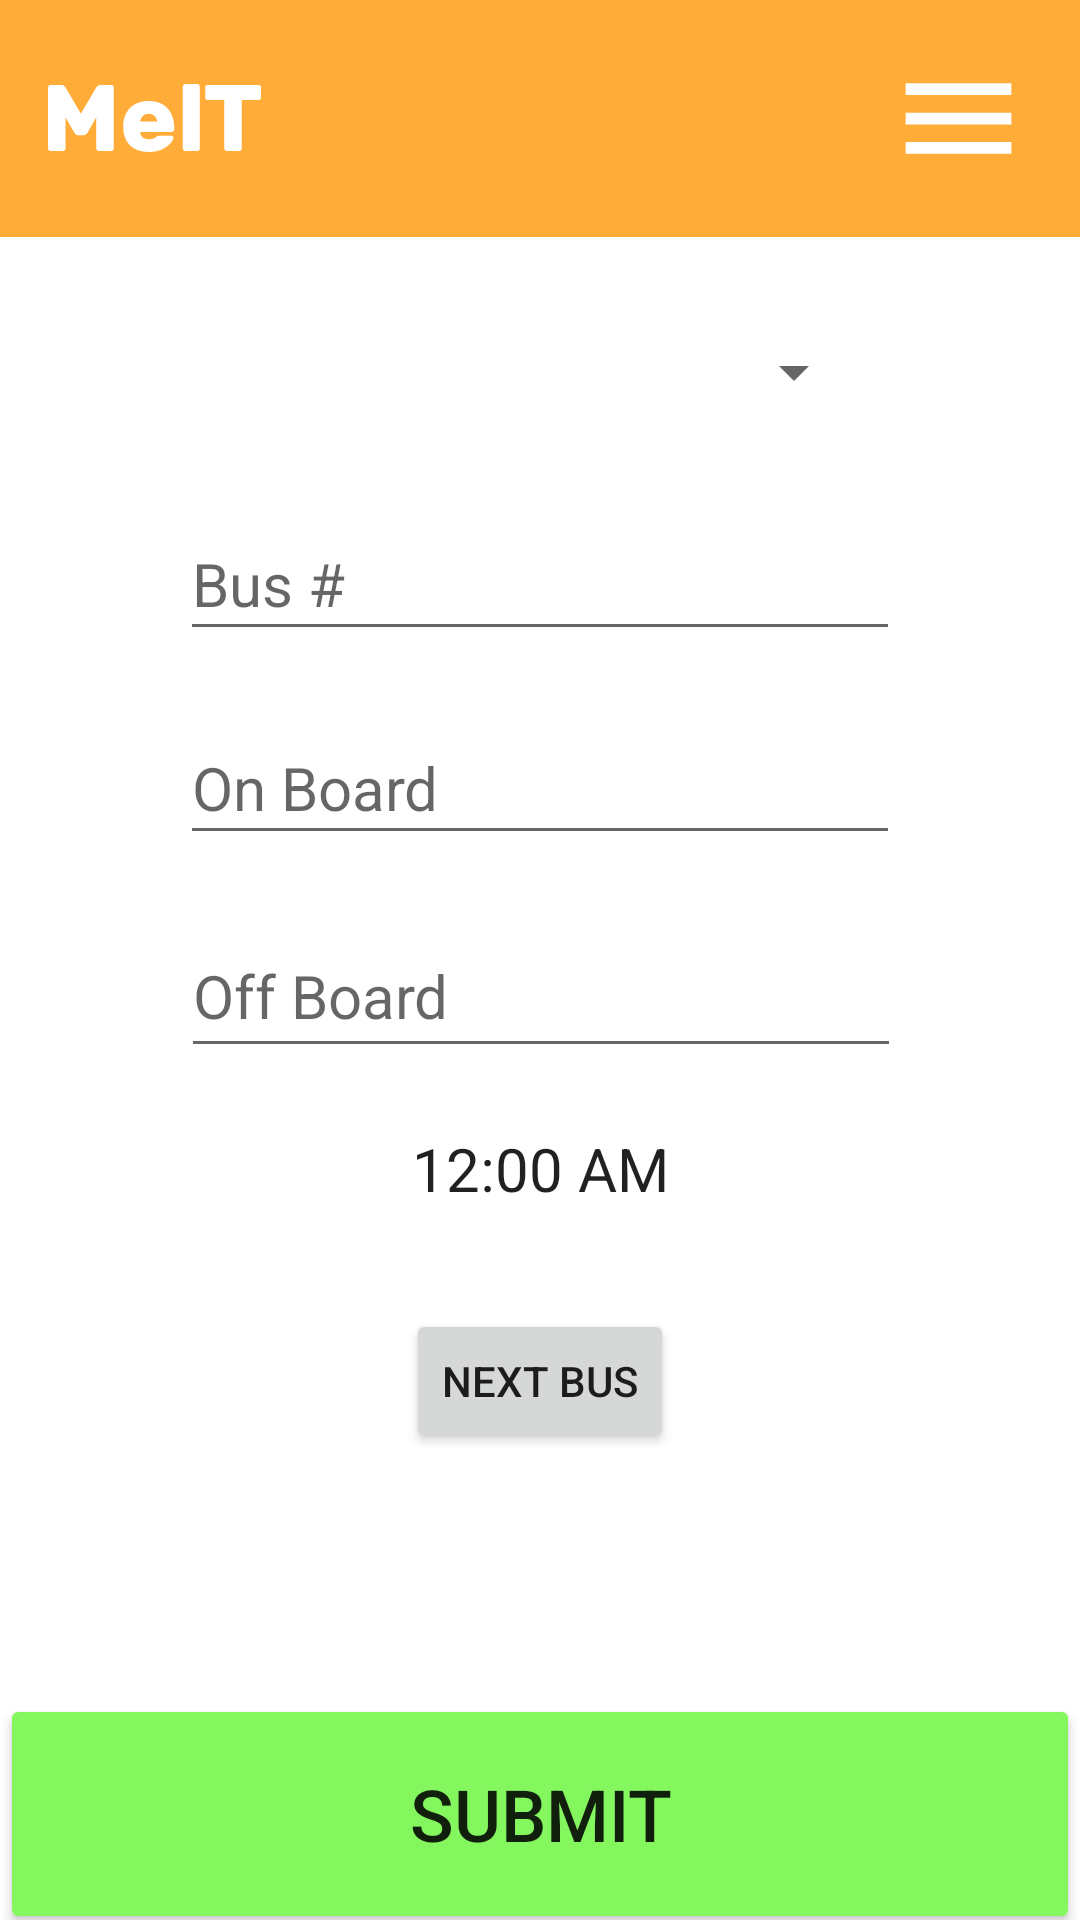

Named icons in this screenshot (1080px x 1920px) and their centers, [x,y]:
menu: [958,118]
